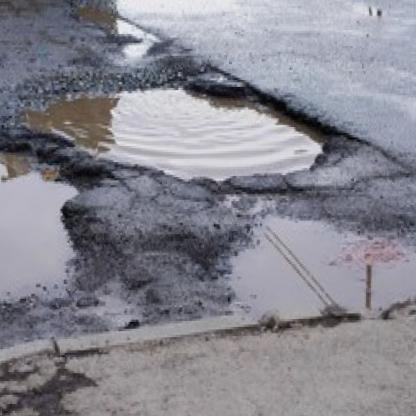pothole: (19, 69, 339, 184), (220, 202, 416, 327), (0, 119, 83, 312)
